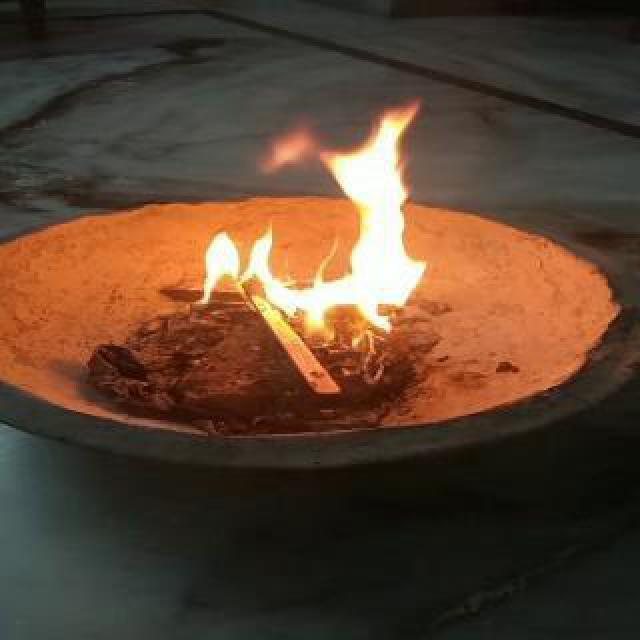Fire: (188, 94, 466, 338)
